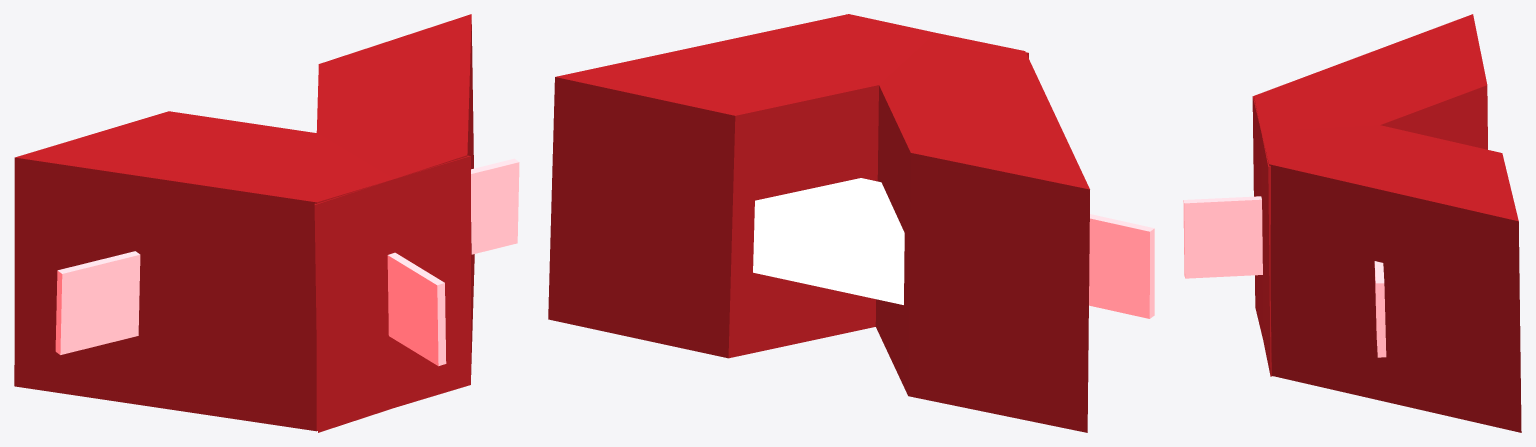
Rendered from player.glb.
The picture shows the model from 3 angles, left to right: view 1: azimuth 30°, elevation 25°; view 2: azimuth 150°, elevation 25°; view 3: azimuth 270°, elevation 25°; orthographic projection. The views are drawn at different scales.
Parts seen in each view (by area): view 1: Cube.002, Cube, Cube.005, Cube.003, Cube.004; view 2: Cube, Cube.002, Cube.001, Cube.005; view 3: Cube, Cube.002, Cube.003, Cube.004.
Part boxes in pixels (x1,y1,x2,y2): Cube.002: [14, 111, 470, 431]; Cube: [314, 14, 474, 432]; Cube.005: [55, 251, 140, 354]; Cube.003: [387, 252, 446, 366]; Cube.004: [471, 158, 519, 254]; Cube: [548, 14, 1028, 358]; Cube.002: [875, 33, 1089, 432]; Cube.001: [753, 178, 904, 304]; Cube.005: [1089, 214, 1154, 318]; Cube: [1252, 96, 1521, 432]; Cube.002: [1254, 14, 1487, 376]; Cube.003: [1183, 196, 1262, 278]; Cube.004: [1374, 261, 1386, 357].
Size of the model in its own units: 0.7591 by 0.3521 by 0.4933.
